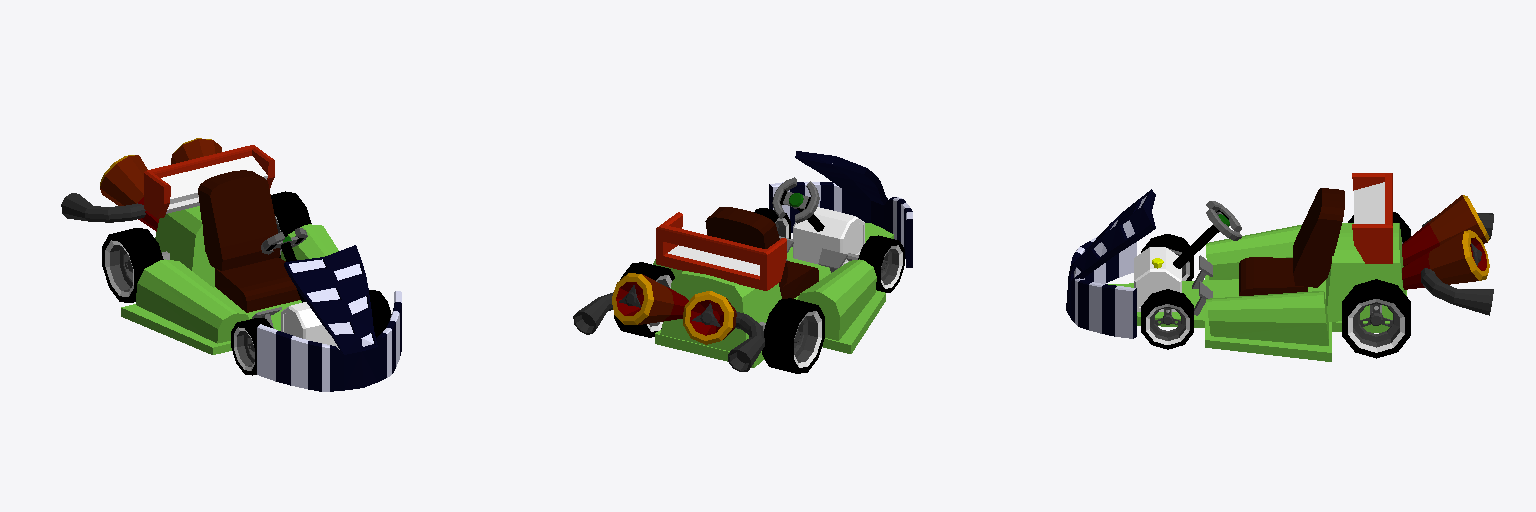
Rendered from Kart4.obj.
The picture shows the model from 3 angles: view 1: azimuth 30°, elevation 25°; view 2: azimuth 150°, elevation 25°; view 3: azimuth 270°, elevation 25°; orthographic projection.
Visible parts, largest first — view 1: Hood5_Cylinder.009, KartPlataform3_Cylinder, Chair5_Cube.004, Wheels5_Cylinder.006, WingsKart4_Cube.001, Catalysts5_Cylinder.017, SteeringWheel5_Cylinder.008; view 2: KartPlataform3_Cylinder, Catalysts5_Cylinder.017, Wheels5_Cylinder.006, Hood5_Cylinder.009, WingsKart4_Cube.001, Chair5_Cube.004, SteeringWheel5_Cylinder.008; view 3: KartPlataform3_Cylinder, Hood5_Cylinder.009, Wheels5_Cylinder.006, Catalysts5_Cylinder.017, Chair5_Cube.004, WingsKart4_Cube.001, SteeringWheel5_Cylinder.008, Pedals1_Cylinder.007.
Boxes of the visible parts, x1=… form: Hood5_Cylinder.009: x1=257, y1=245, x2=401, y2=391; KartPlataform3_Cylinder: x1=121, y1=206, x2=339, y2=354; Chair5_Cube.004: x1=198, y1=170, x2=300, y2=312; Wheels5_Cylinder.006: x1=102, y1=191, x2=391, y2=375; WingsKart4_Cube.001: x1=144, y1=145, x2=274, y2=218; Catalysts5_Cylinder.017: x1=61, y1=138, x2=221, y2=231; SteeringWheel5_Cylinder.008: x1=261, y1=228, x2=307, y2=302; KartPlataform3_Cylinder: x1=653, y1=207, x2=893, y2=367; Catalysts5_Cylinder.017: x1=573, y1=273, x2=764, y2=371; Wheels5_Cylinder.006: x1=614, y1=208, x2=904, y2=373; Hood5_Cylinder.009: x1=769, y1=151, x2=912, y2=267; WingsKart4_Cube.001: x1=656, y1=212, x2=786, y2=290; Chair5_Cube.004: x1=705, y1=207, x2=818, y2=298; SteeringWheel5_Cylinder.008: x1=772, y1=177, x2=824, y2=231; KartPlataform3_Cylinder: x1=1108, y1=223, x2=1406, y2=361; Hood5_Cylinder.009: x1=1066, y1=189, x2=1155, y2=338; Wheels5_Cylinder.006: x1=1141, y1=212, x2=1410, y2=358; Catalysts5_Cylinder.017: x1=1402, y1=195, x2=1493, y2=315; Chair5_Cube.004: x1=1239, y1=188, x2=1344, y2=295; WingsKart4_Cube.001: x1=1352, y1=173, x2=1392, y2=263; SteeringWheel5_Cylinder.008: x1=1173, y1=201, x2=1241, y2=268; Pedals1_Cylinder.007: x1=1192, y1=255, x2=1212, y2=315.
Bounding box in the file's own units: 10.53 × 5.62 × 17.88.